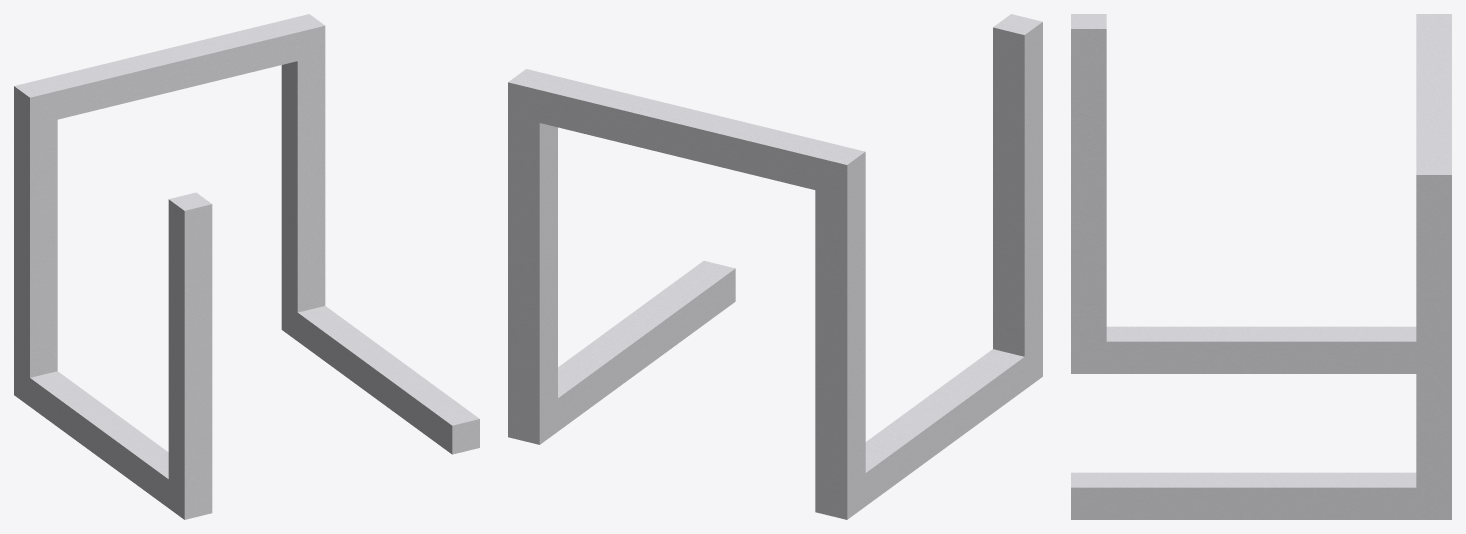
Rendered from preview.glb.
3 views of the same model, side by side, from view 1: azimuth 30°, elevation 25°; view 2: azimuth 150°, elevation 25°; view 3: azimuth 270°, elevation 25° (orthographic). The views are drawn at different scales.
Parts seen in each view (by area): view 1: Object_3; view 2: Object_3; view 3: Object_3.
Boxes of the visible parts, x1,y1,x2,y2 form: Object_3: (14,14,479,519); Object_3: (508,14,1042,519); Object_3: (1071,14,1451,519).
Bounding box in the file's own units: 1.26 × 1.26 × 1.26.
1 material, 1 textured.
